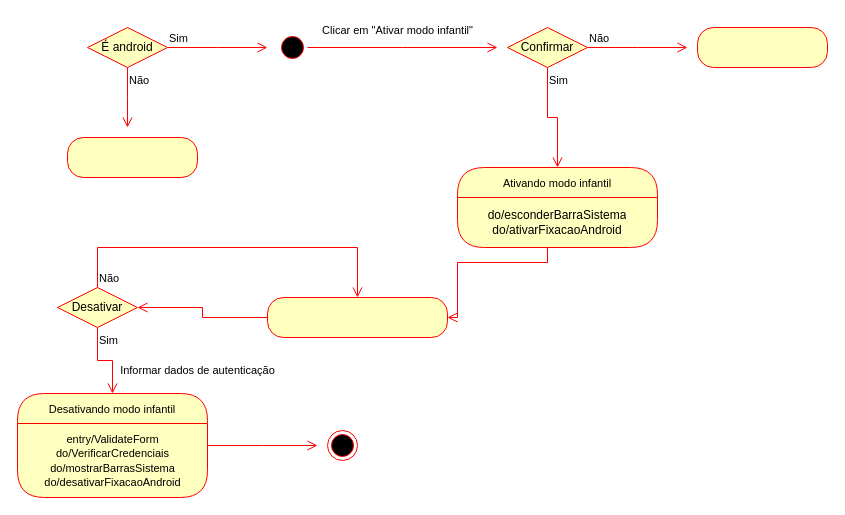
This 845x515 diagram has some shape labels left out. The shapes that lost their labels are listed below. From the top down, each one's centre as x and y in pixels, then its label:
At point (762, 47): "Não inicia modo infantil".
At point (132, 157): "Não apresenta modo infantitl".
At point (357, 317): "Acesso Restrito às pranchas de comunicação".
